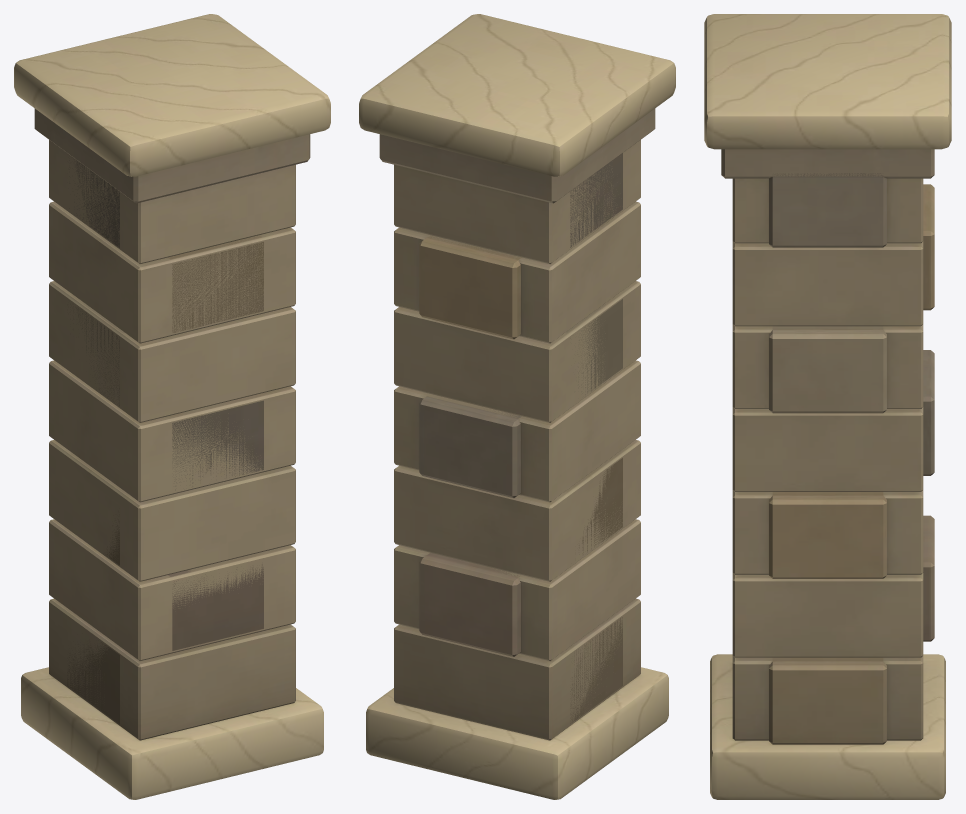
Rendered from corner_pier.glb.
The picture shows the model from 3 angles, left to right: view 1: azimuth 30°, elevation 25°; view 2: azimuth 150°, elevation 25°; view 3: azimuth 270°, elevation 25°; orthographic projection. The views are drawn at different scales.
Visible parts, largest first — view 1: corner_pier; view 2: corner_pier; view 3: corner_pier.
Part boxes in pixels (x1,y1,x2,y2): corner_pier: (14, 14, 330, 799); corner_pier: (359, 14, 675, 799); corner_pier: (704, 14, 951, 799).
Size of the model in its own units: 1.3 by 4 by 1.3.
1 material, 1 textured.
